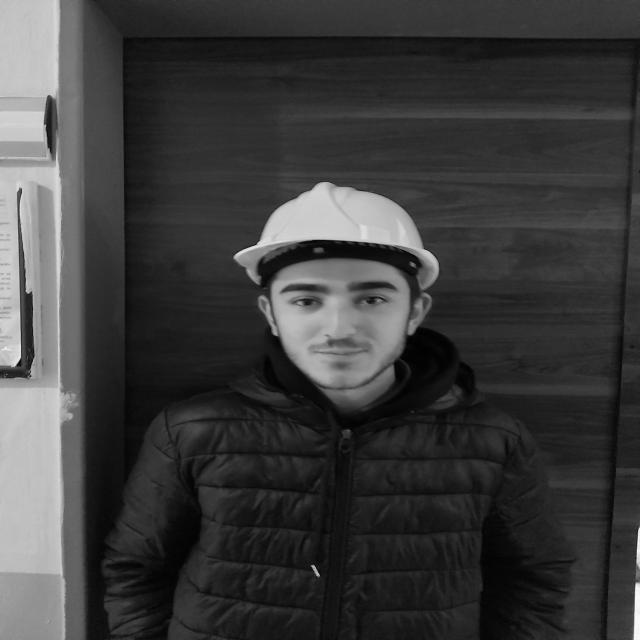safety_helmet: (233, 183, 441, 295)
